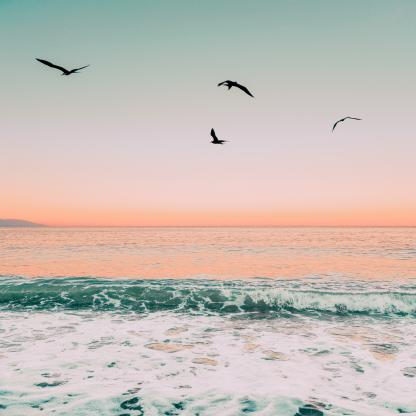bird: (35, 58, 91, 76), (218, 80, 256, 99), (331, 117, 362, 134), (210, 128, 230, 146)
